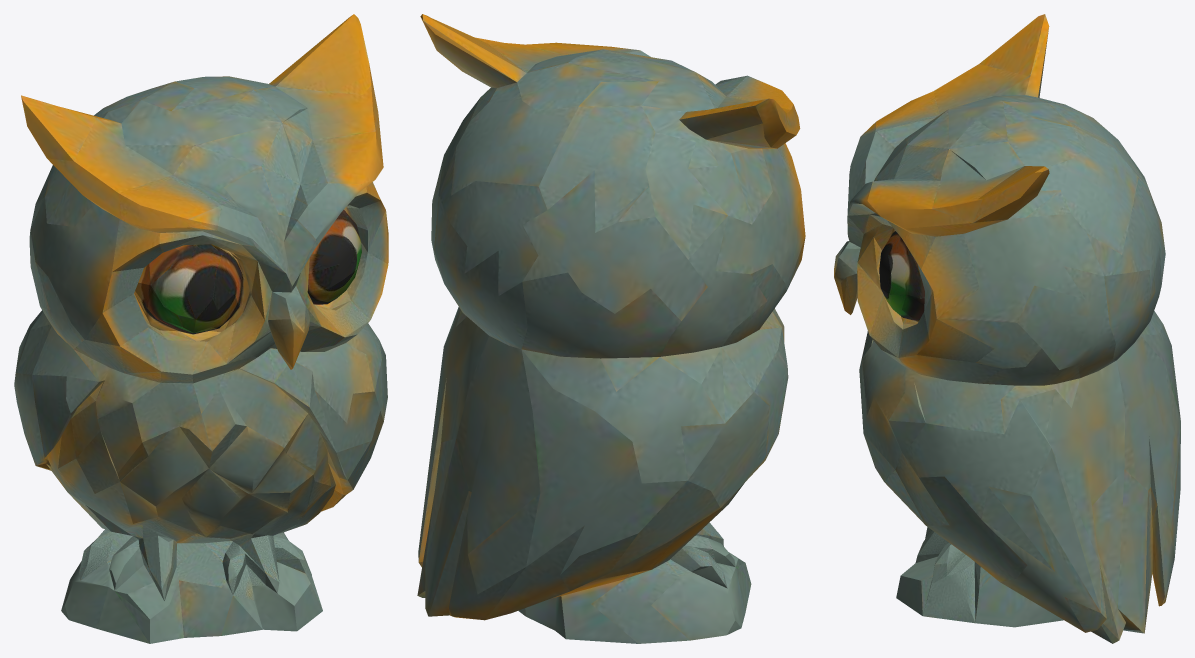
The model's file is eule.glb.
The picture shows the model from 3 angles, left to right: view 1: azimuth 30°, elevation 25°; view 2: azimuth 150°, elevation 25°; view 3: azimuth 270°, elevation 25°; orthographic projection. The views are drawn at different scales.
Bounding box in the file's own units: 1.28 × 1.9 × 1.21.
Materials: 1 (1 with a texture image).
